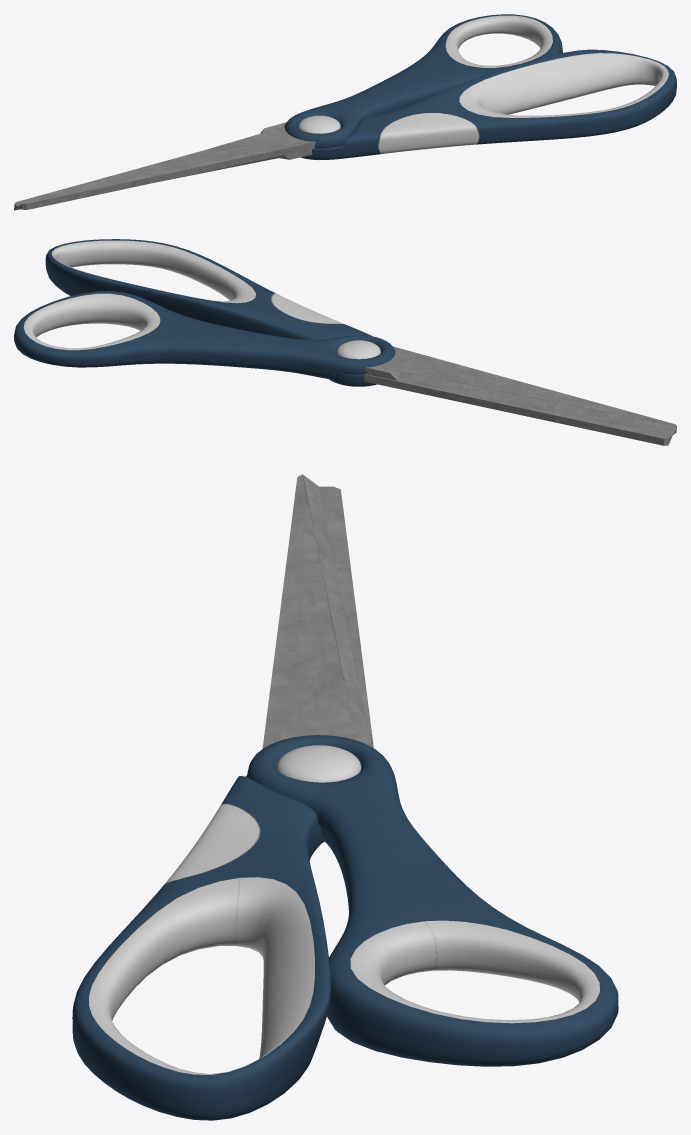
The model's file is blueScissors.obj.
The picture shows the model from 3 angles, top to bottom: view 1: azimuth 30°, elevation 25°; view 2: azimuth 150°, elevation 25°; view 3: azimuth 270°, elevation 25°; orthographic projection. The views are drawn at different scales.
Visible parts, largest first — view 1: blueScissors; view 2: blueScissors; view 3: blueScissors.
Part boxes in pixels (left/top/right/bottom): blueScissors: left=14, top=14, right=676, bottom=210; blueScissors: left=14, top=239, right=676, bottom=445; blueScissors: left=72, top=474, right=618, bottom=1120.
Bounding box in the file's own units: 264 × 14.56 × 99.64.
1 material, 1 textured.
